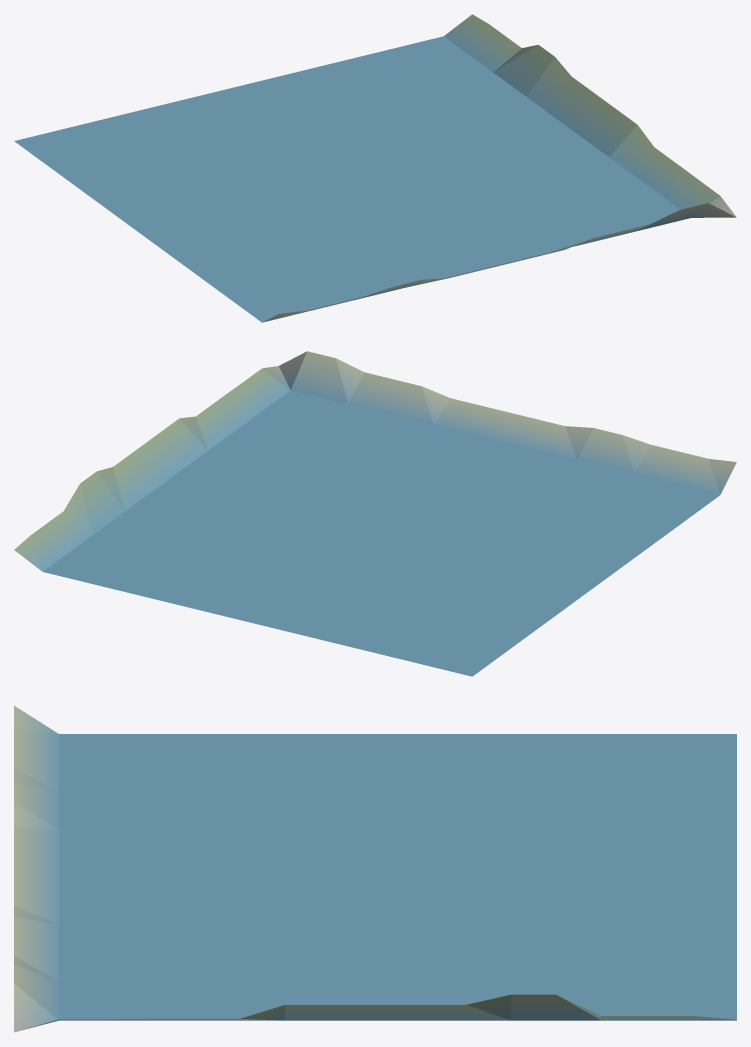
3 renders of one model, top to bottom at view 1: azimuth 30°, elevation 25°; view 2: azimuth 150°, elevation 25°; view 3: azimuth 270°, elevation 25°, orthographic. The views are drawn at different scales.
Bounding box in the file's own units: 32 × 2.2 × 32.
